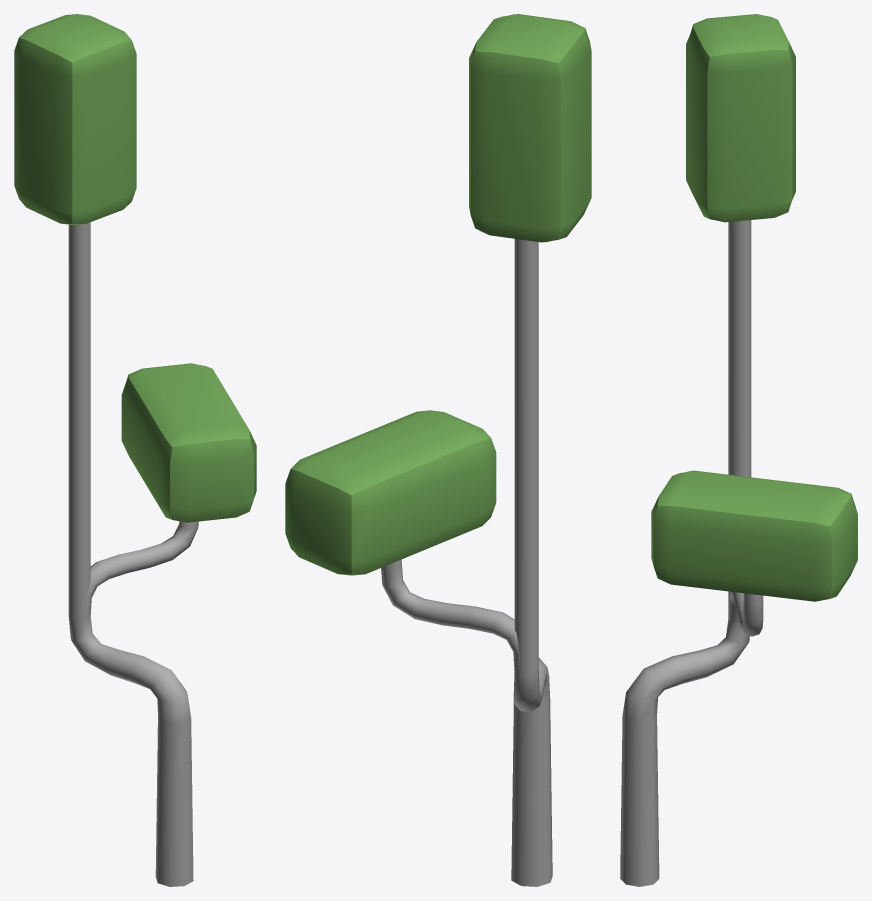
File: foliage_01.fbx
3 renders of one model, left to right at view 1: azimuth 30°, elevation 25°; view 2: azimuth 150°, elevation 25°; view 3: azimuth 270°, elevation 25°, orthographic. The views are drawn at different scales.
Visible parts, largest first — view 1: foliage_01; view 2: foliage_01; view 3: foliage_01.
Boxes of the visible parts, left/top/right/bottom form: foliage_01: left=14, top=14, right=256, bottom=886; foliage_01: left=285, top=14, right=591, bottom=886; foliage_01: left=620, top=14, right=857, bottom=886.
Size of the model in its own units: 6.36 by 21.99 by 5.73.
